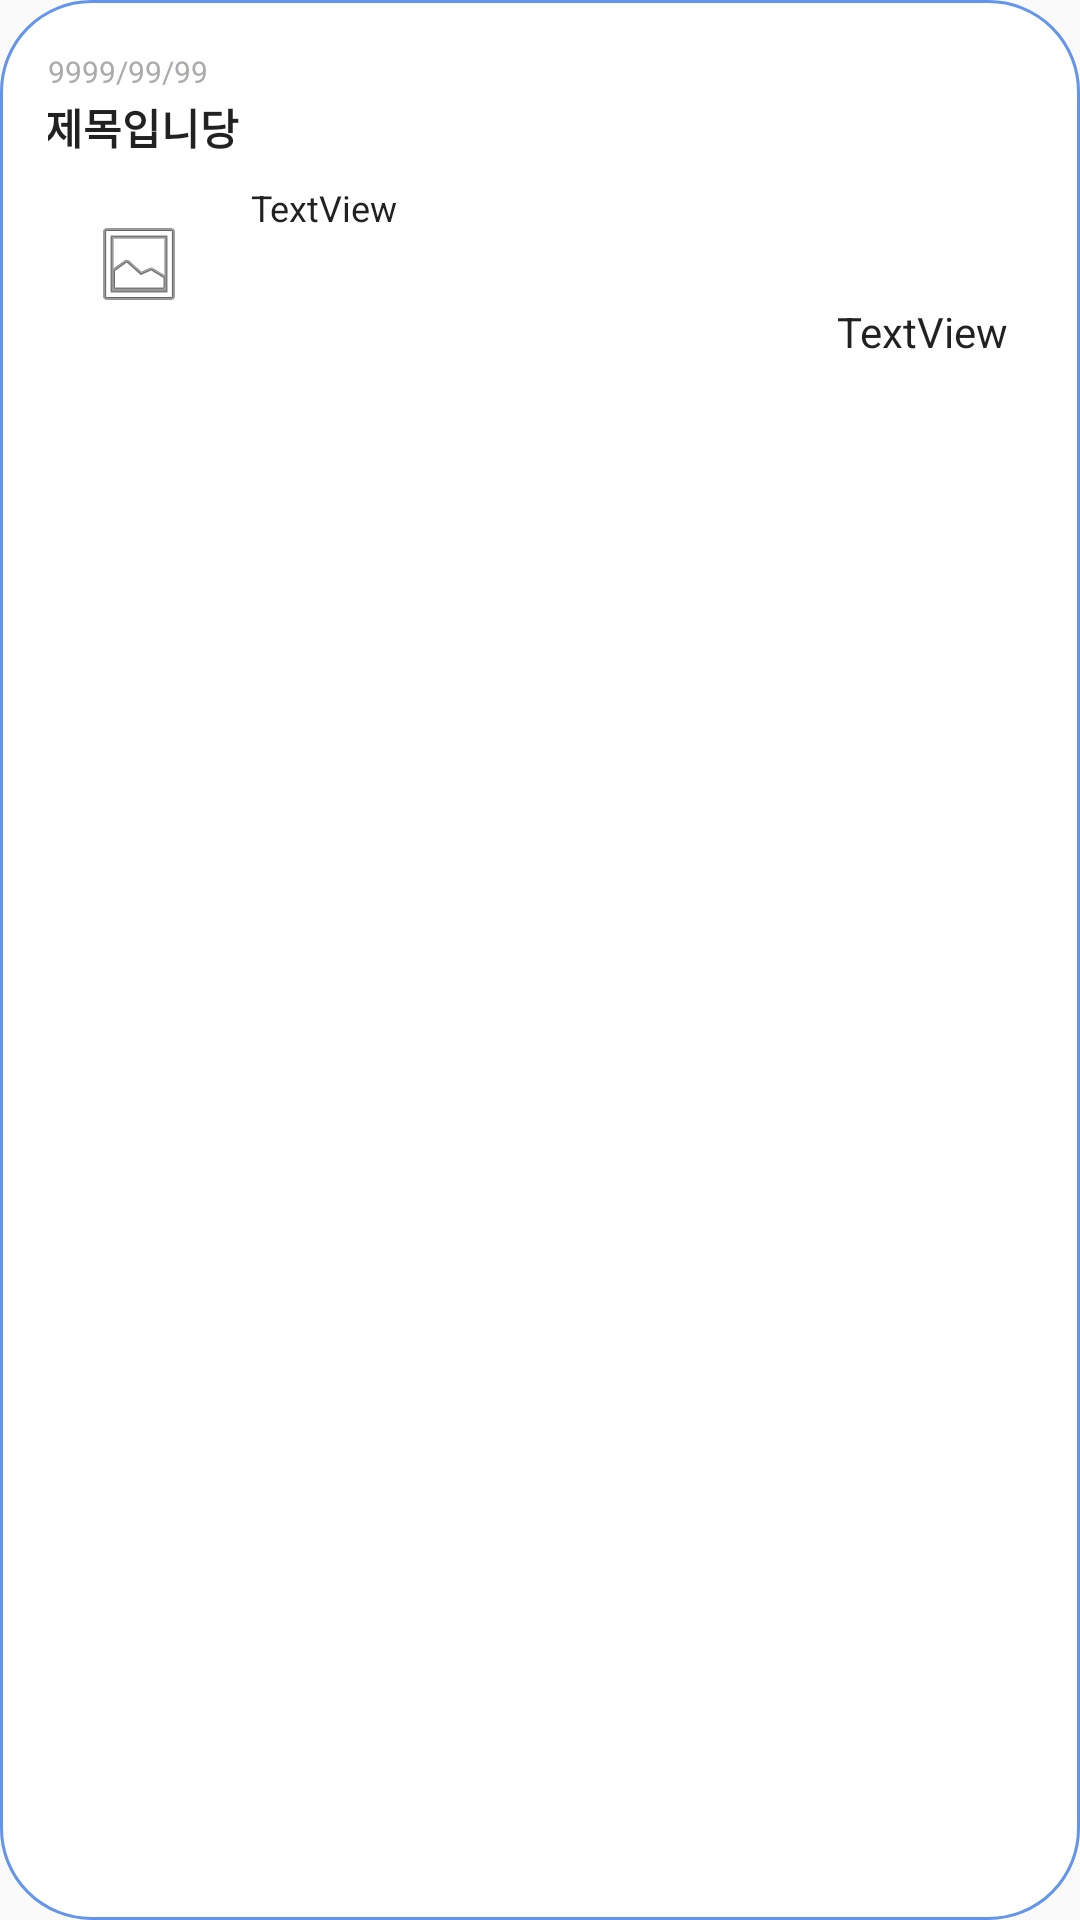

Where to tap for icons on this 1080 × 1920 app screen, as (x=x, y=y):
gallery: (x=139, y=264)
